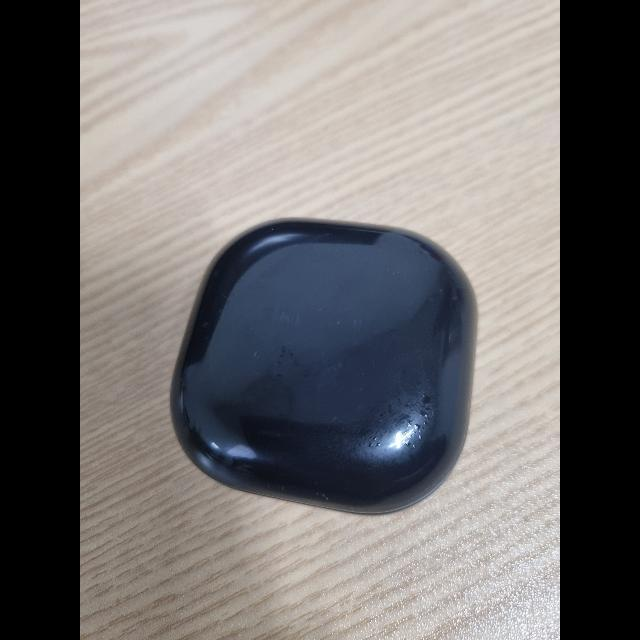buds_live: (168, 218, 480, 518)
